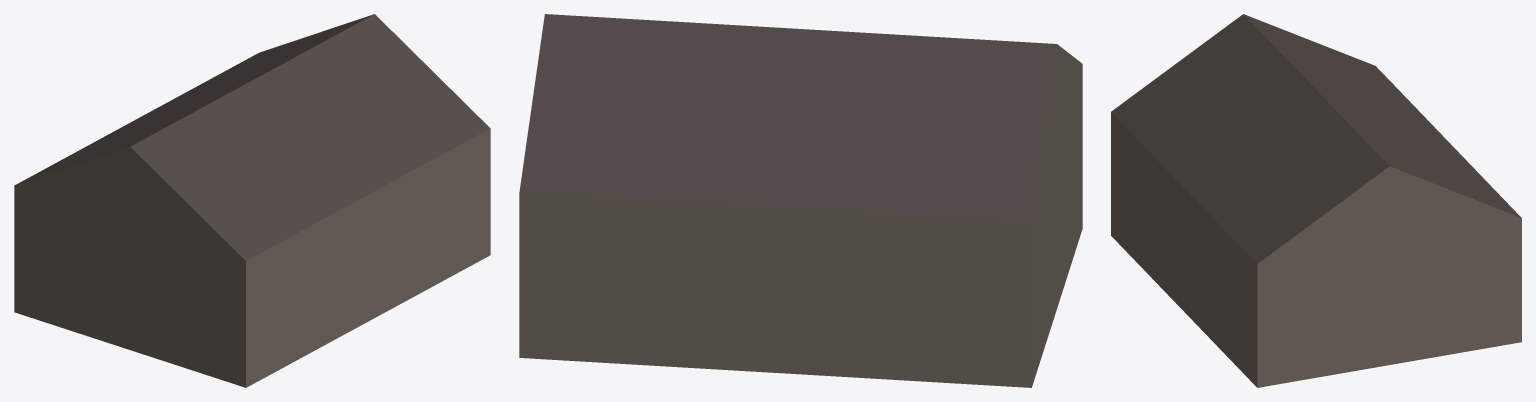
3 views of the same model, side by side, from view 1: azimuth 30°, elevation 25°; view 2: azimuth 150°, elevation 25°; view 3: azimuth 270°, elevation 25° (orthographic). The views are drawn at different scales.
Visible parts, largest first — view 1: HP-w369317476; view 2: HP-w369317476; view 3: HP-w369317476.
Part boxes in pixels (x1,y1,x2,y2): HP-w369317476: (14, 14, 490, 387); HP-w369317476: (519, 14, 1082, 387); HP-w369317476: (1111, 14, 1521, 387).
Size of the model in its own units: 20.57 by 9.62 by 18.03.
